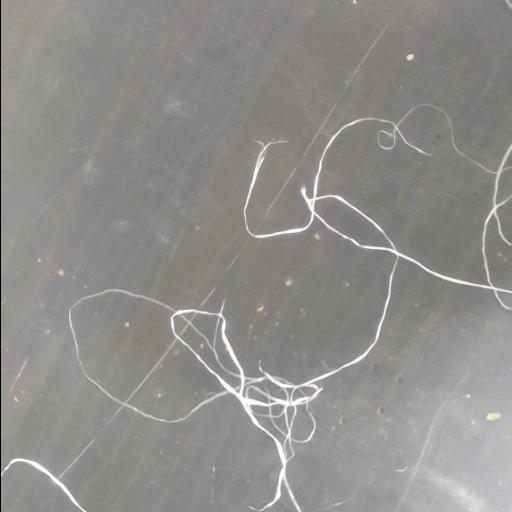conveyor belt: (1, 0, 512, 511), (288, 260, 512, 511), (319, 108, 491, 282), (75, 294, 170, 397), (132, 348, 218, 417), (1, 466, 77, 511)
thread: (68, 104, 512, 511), (1, 457, 87, 511)
